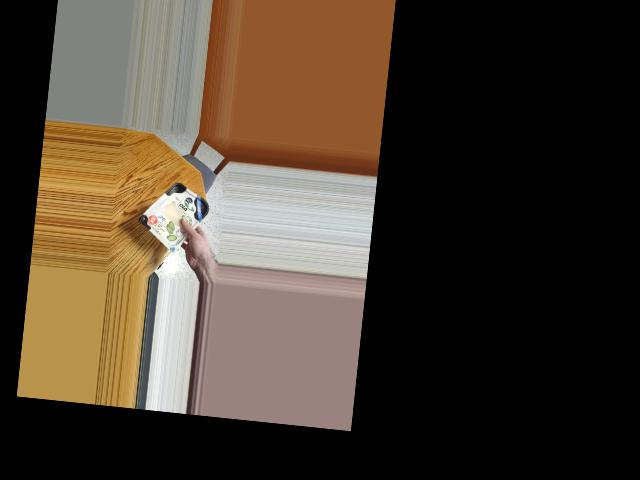cheese: (142, 179, 213, 244)
